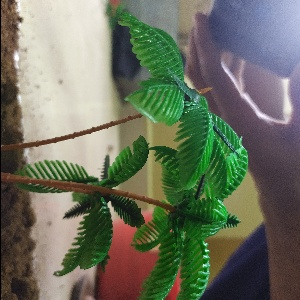plant: (56, 14, 278, 300)
